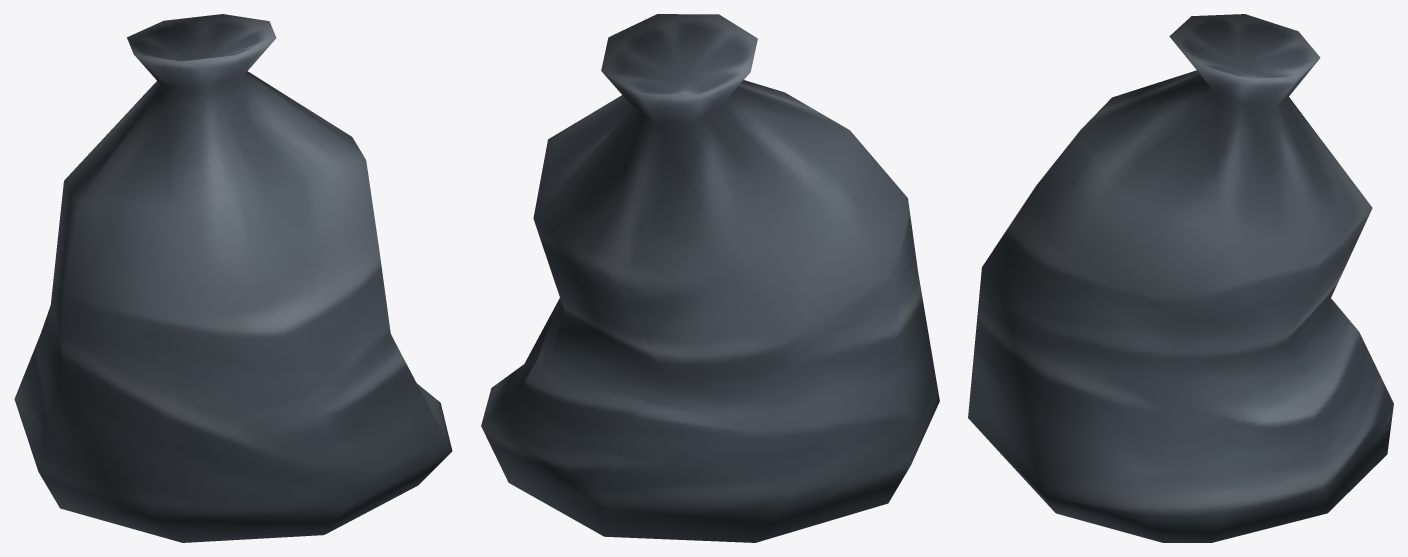
Rendered from Trash_bag.FBX.
3 views of the same model, side by side, from view 1: azimuth 30°, elevation 25°; view 2: azimuth 150°, elevation 25°; view 3: azimuth 270°, elevation 25° (orthographic). The views are drawn at different scales.
Parts seen in each view (by area): view 1: Trash_bag; view 2: Trash_bag; view 3: Trash_bag.
Part boxes in pixels (left/top/right/bottom): Trash_bag: left=14, top=14, right=452, bottom=542; Trash_bag: left=481, top=14, right=939, bottom=542; Trash_bag: left=968, top=14, right=1393, bottom=542.
Size of the model in its own units: 70.82 by 74.11 by 68.49.
